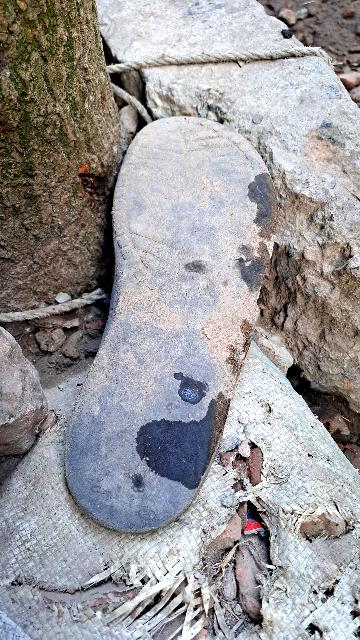sandal: (6, 98, 319, 547)
